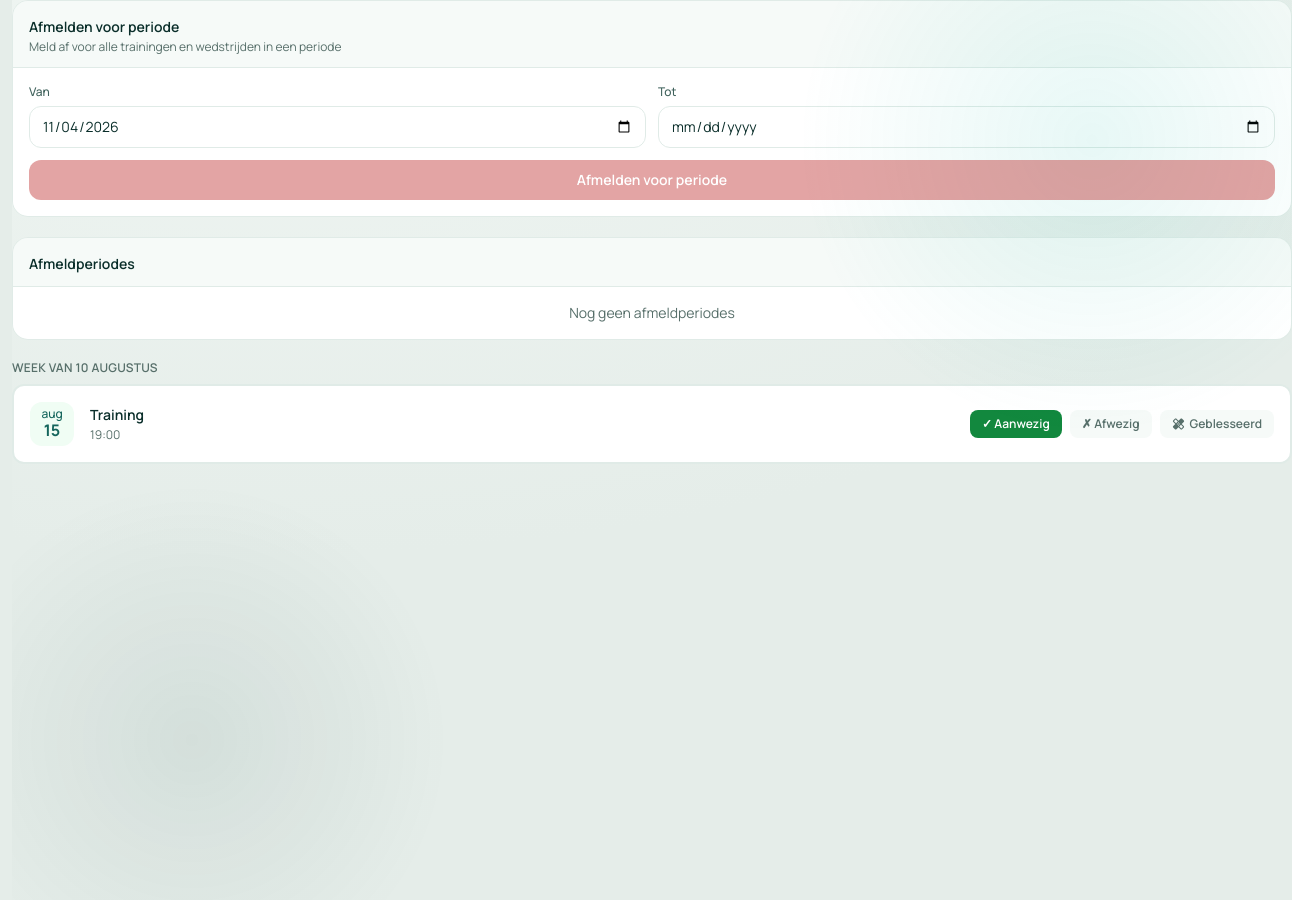
Test: setStatus: optimistisch met rollback per rij (OU) › bij een weigering: rij terug naar de bevestigde status en een i18n-melding, niet de serverstring
Click the button "✗ Afwezig".
click(1111, 424)  # box left=1070, top=410, right=1152, bottom=438
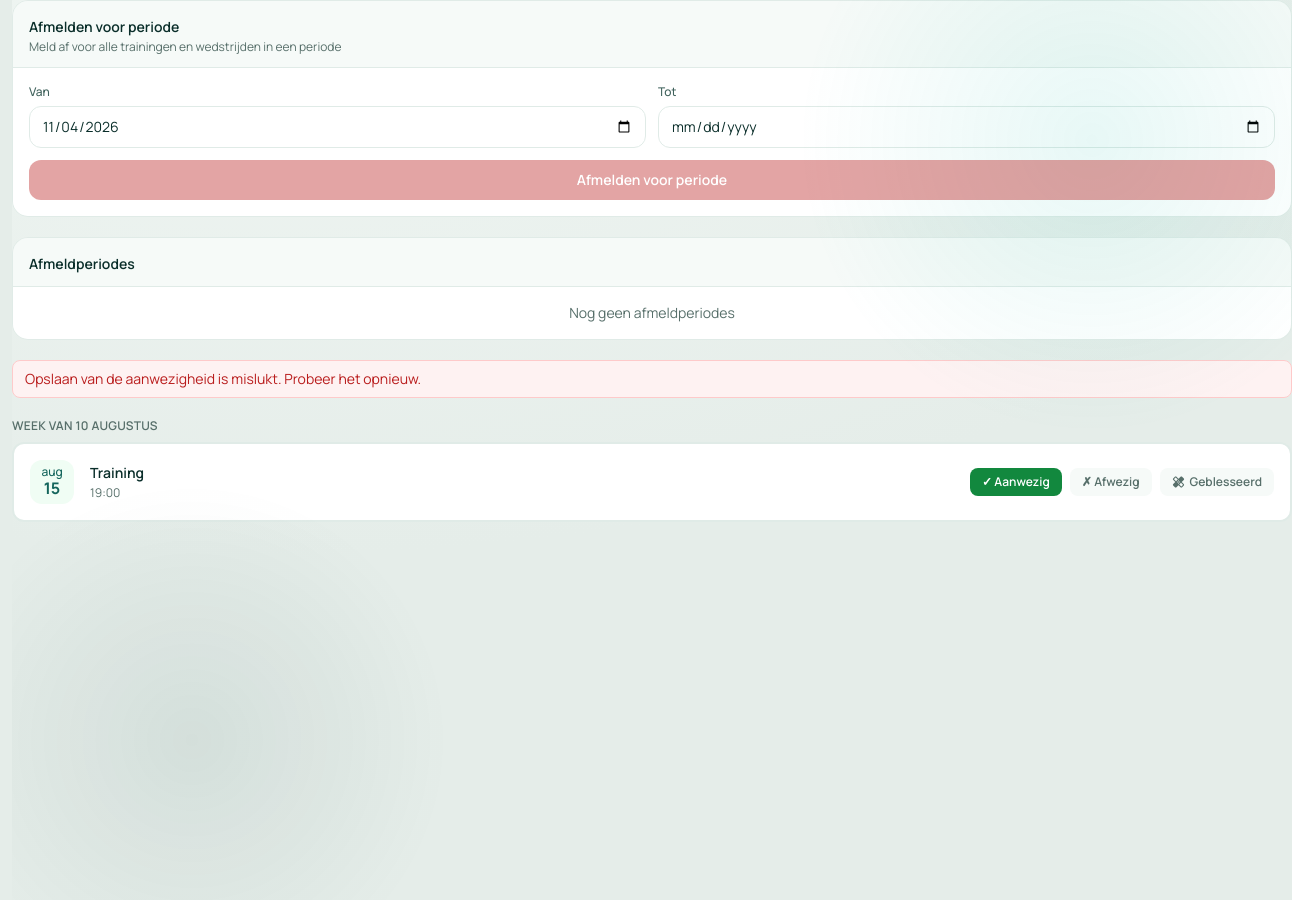
Now the message reads "Opslaan van de aanwezigheid is mislukt. Probeer het opnieuw.", box left=25, top=369, right=421, bottom=388
